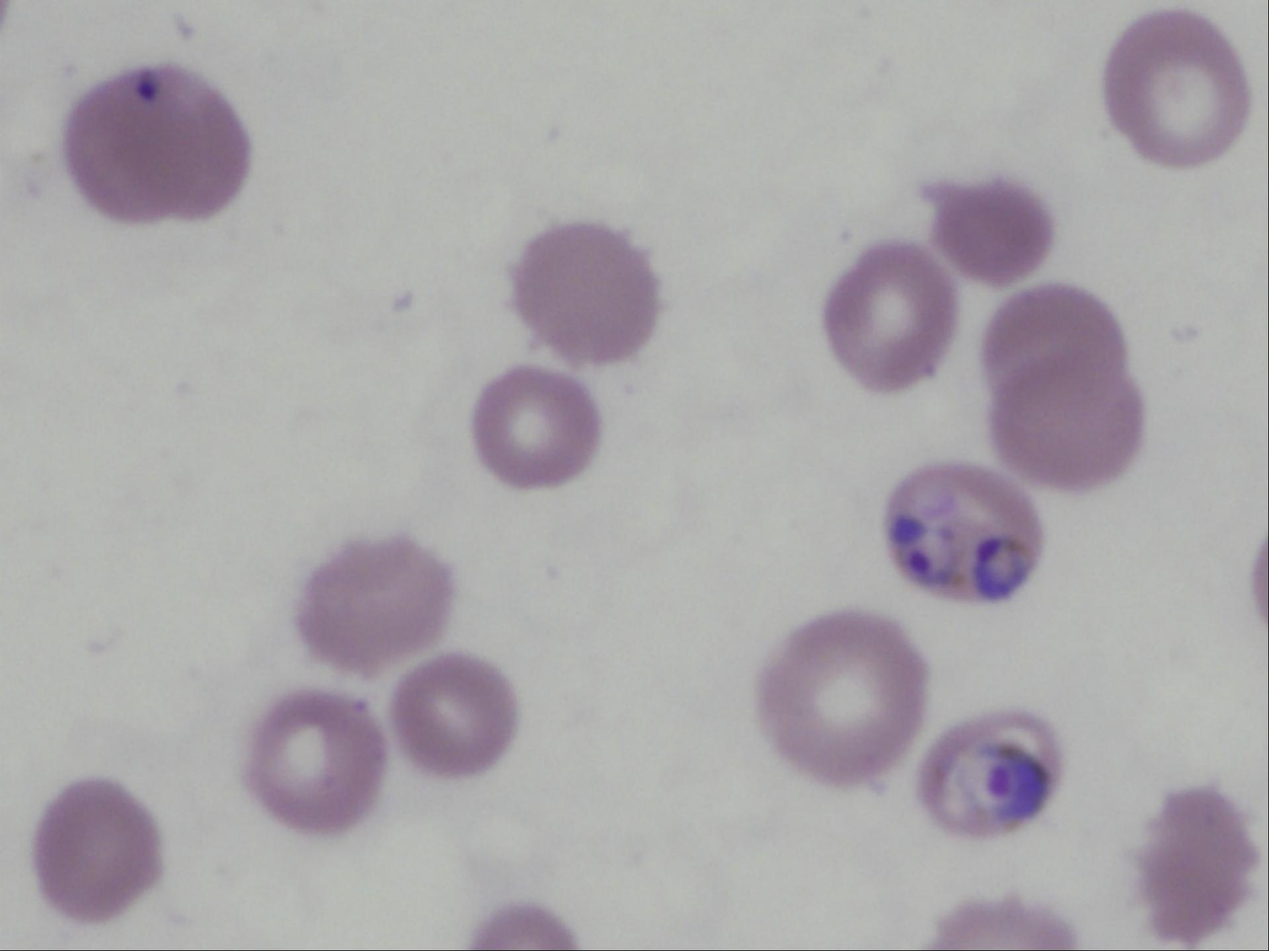Infected: (882, 461, 1039, 603), (919, 710, 1059, 837)
Uninfected: (986, 283, 1146, 486), (63, 62, 250, 223), (758, 613, 924, 784), (1106, 12, 1253, 165), (297, 535, 455, 675), (513, 223, 660, 362), (1132, 787, 1256, 943), (248, 692, 386, 831), (32, 778, 163, 920), (824, 247, 954, 388), (917, 175, 1052, 289), (476, 369, 604, 489), (391, 656, 516, 776)
